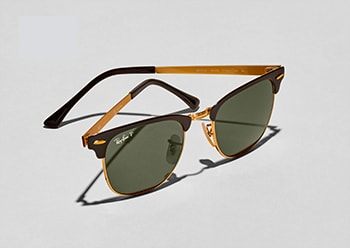sunglasses: (43, 63, 304, 204)
